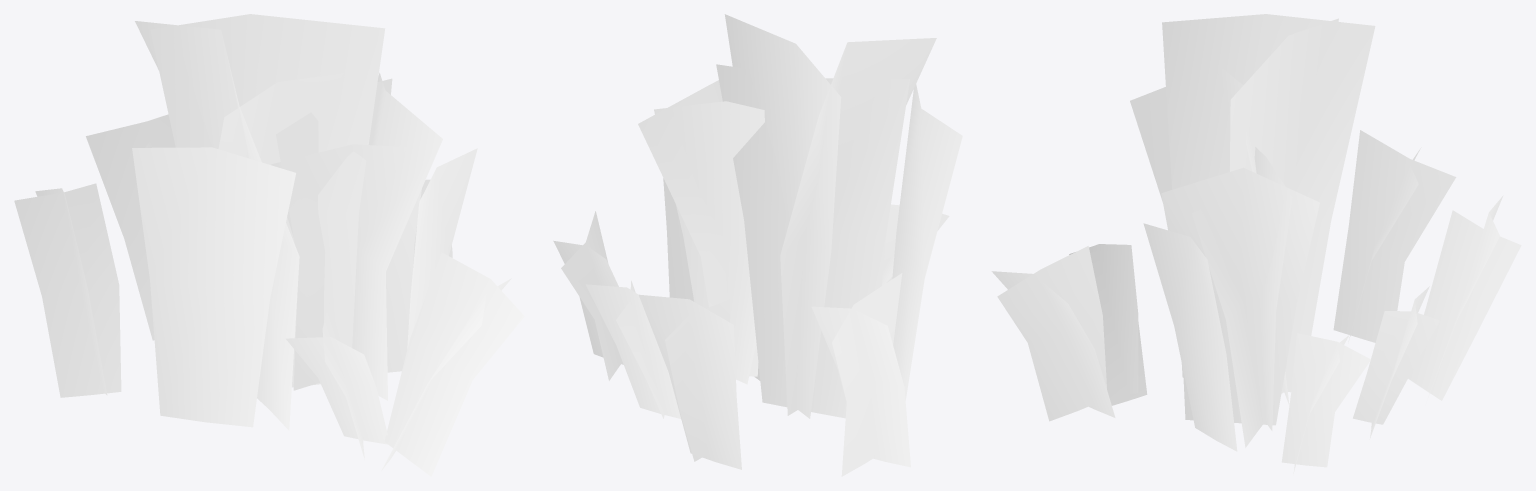
File: spmBbGrass1_LOD0 (merge).fbx
The picture shows the model from 3 angles, left to right: view 1: azimuth 30°, elevation 25°; view 2: azimuth 150°, elevation 25°; view 3: azimuth 270°, elevation 25°; orthographic projection. The views are drawn at different scales.
Parts seen in each view (by area): view 1: spmBbGrass1_LOD0; view 2: spmBbGrass1_LOD0; view 3: spmBbGrass1_LOD0.
Part boxes in pixels (<box>): spmBbGrass1_LOD0: <box>14,14,524,476</box>; spmBbGrass1_LOD0: <box>553,14,962,476</box>; spmBbGrass1_LOD0: <box>991,14,1521,473</box>.
Size of the model in its own units: 1.23 by 1.17 by 1.54.
1 material, 1 textured.
